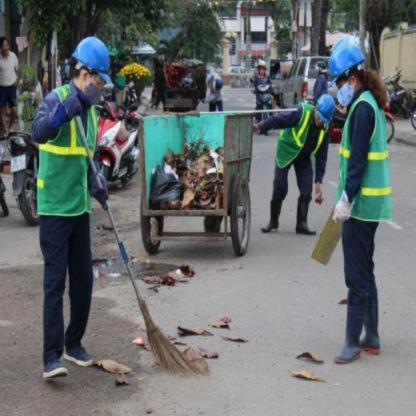bota: (334, 292, 367, 365), (361, 289, 381, 356), (261, 195, 286, 234), (62, 336, 94, 366), (296, 196, 316, 235), (41, 349, 66, 380)
capacete: (68, 36, 113, 100), (328, 36, 365, 100), (314, 94, 334, 126)
